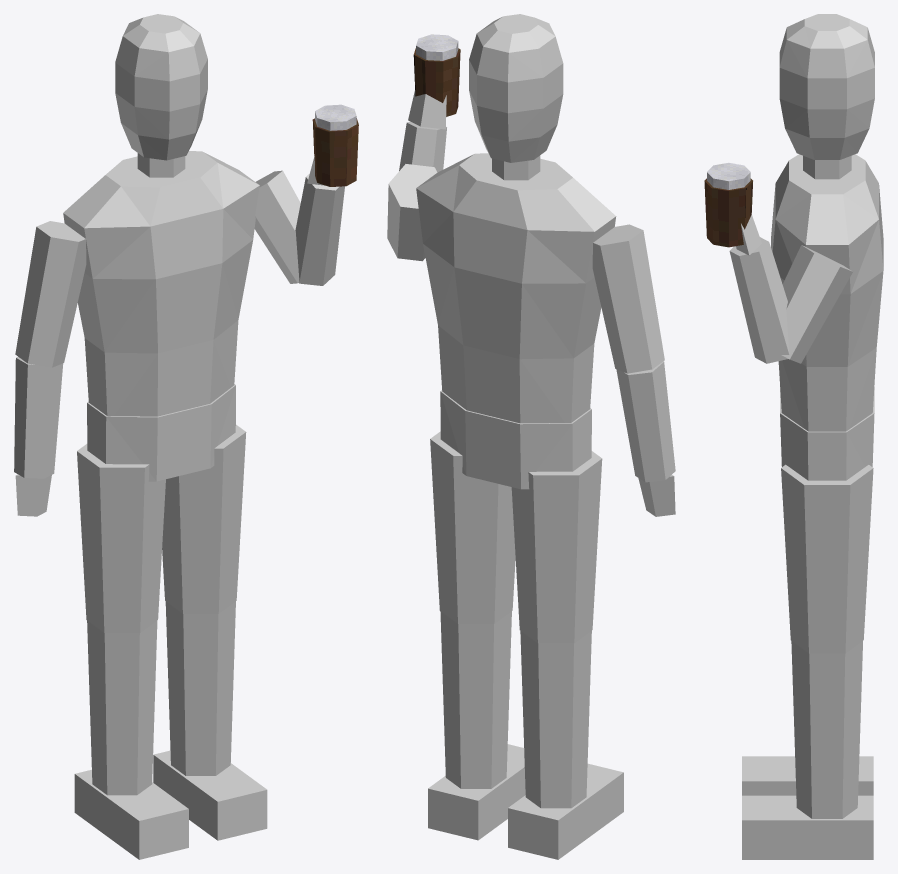
Rendered from brindis.obj.
3 views of the same model, side by side, from view 1: azimuth 30°, elevation 25°; view 2: azimuth 150°, elevation 25°; view 3: azimuth 270°, elevation 25° (orthographic).
Visible parts, largest first — view 1: brindis; view 2: brindis; view 3: brindis.
Part boxes in pixels (<box>): brindis: <box>14,14,358,859</box>; brindis: <box>387,14,675,859</box>; brindis: <box>704,14,883,859</box>.
Bounding box in the file's own units: 0.719 × 1.83 × 0.3676.
3 materials, 2 textured.
